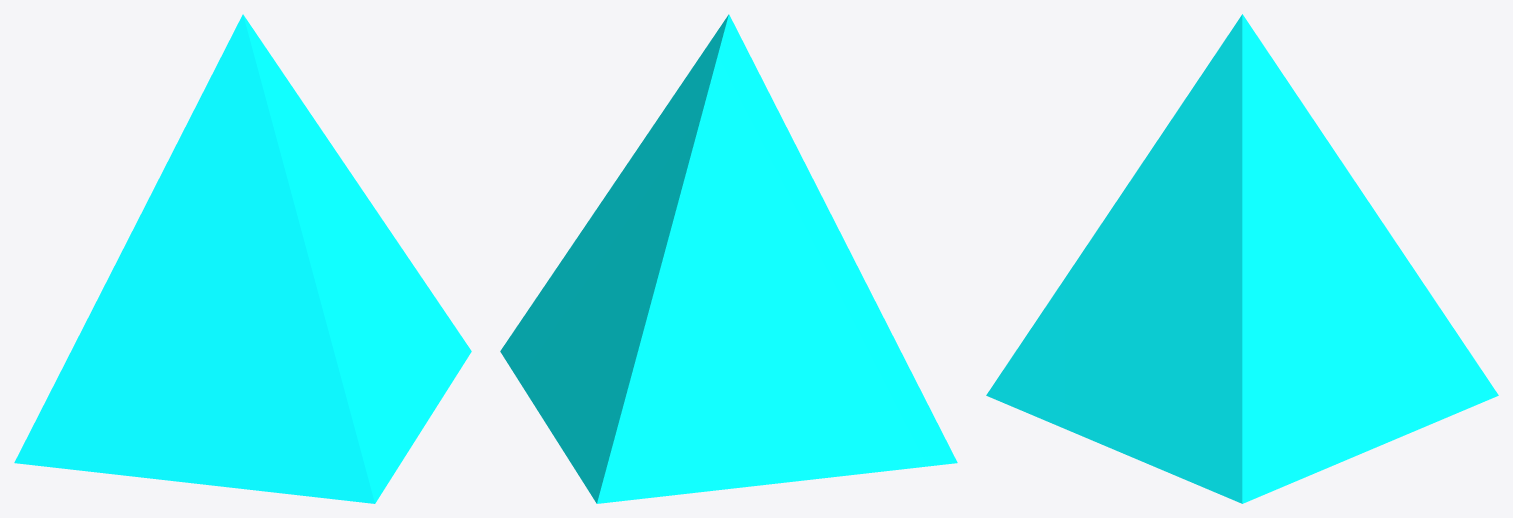
The model's file is BasePyramid.005.glb.
3 views of the same model, side by side, from view 1: azimuth 30°, elevation 25°; view 2: azimuth 150°, elevation 25°; view 3: azimuth 270°, elevation 25° (orthographic). The views are drawn at different scales.
Parts seen in each view (by area): view 1: BasePyramid.005; view 2: BasePyramid.005; view 3: BasePyramid.005.
Boxes of the visible parts, left/top/right/bottom form: BasePyramid.005: left=14, top=14, right=471, bottom=503; BasePyramid.005: left=500, top=14, right=957, bottom=503; BasePyramid.005: left=986, top=14, right=1498, bottom=503.
Size of what is drawn, in the model's own units: 0.9142 by 0.7506 by 0.9142.
Materials: 1 (1 with a texture image).
